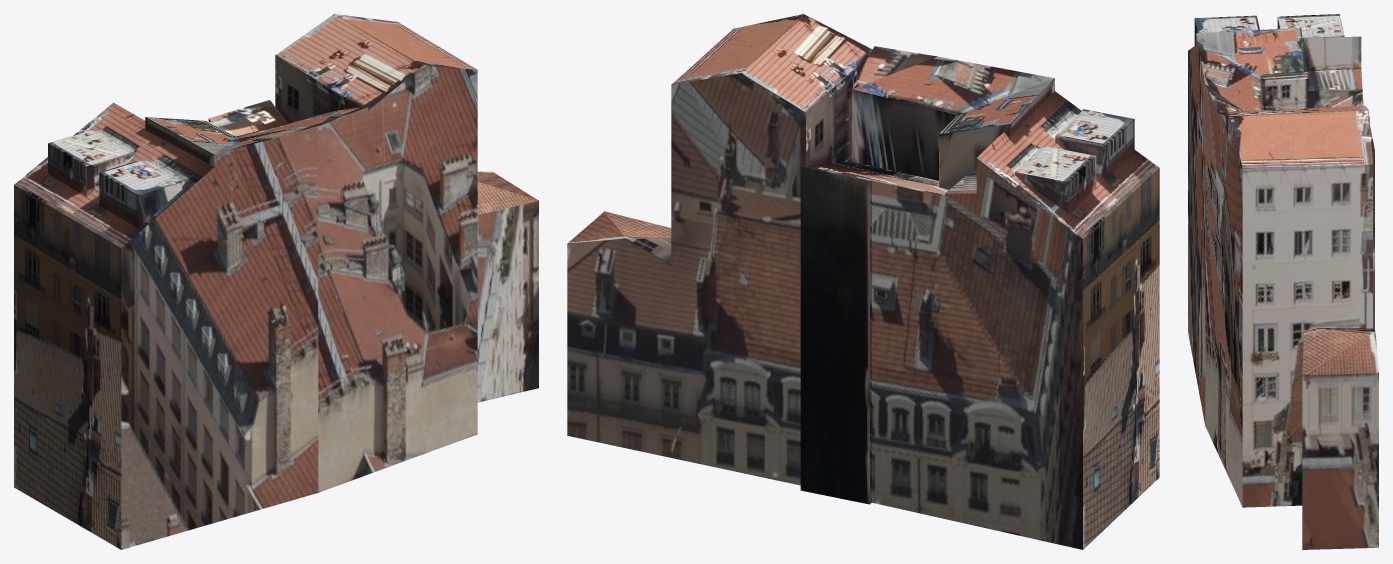
3 renders of one model, left to right at view 1: azimuth 30°, elevation 25°; view 2: azimuth 150°, elevation 25°; view 3: azimuth 270°, elevation 25°, orthographic. The views are drawn at different scales.
Visible parts, largest first — view 1: Z_UP; view 2: Z_UP; view 3: Z_UP.
Boxes of the visible parts, left/top/right/bottom form: Z_UP: left=14, top=14, right=538, bottom=549; Z_UP: left=567, top=14, right=1159, bottom=549; Z_UP: left=1188, top=14, right=1378, bottom=549.
Bounding box in the file's own units: 35.5 × 26.65 × 12.72.
Materials: 2 (1 with a texture image).
